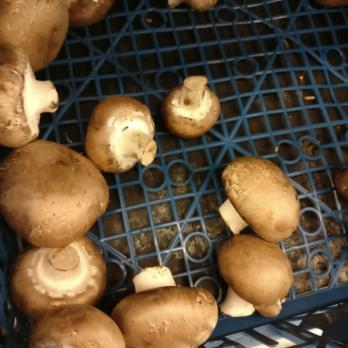Mushroom: (2, 144, 125, 348), (0, 0, 73, 143), (203, 153, 302, 241), (125, 262, 217, 348), (213, 231, 293, 319), (79, 96, 158, 172), (157, 73, 219, 142), (113, 269, 118, 283)
